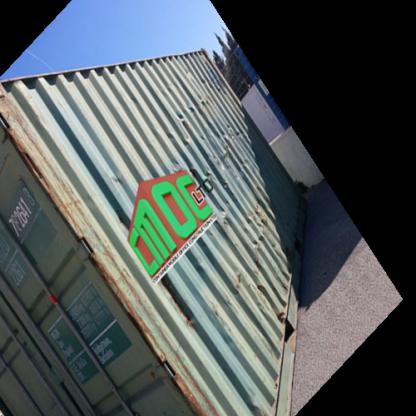Damage: (18, 133, 65, 209), (151, 268, 199, 327), (240, 200, 271, 245), (250, 274, 276, 313), (188, 158, 219, 186), (174, 96, 214, 117), (195, 64, 225, 90), (220, 118, 245, 140), (171, 129, 199, 145), (232, 148, 252, 169), (228, 262, 242, 290), (107, 170, 124, 187)
